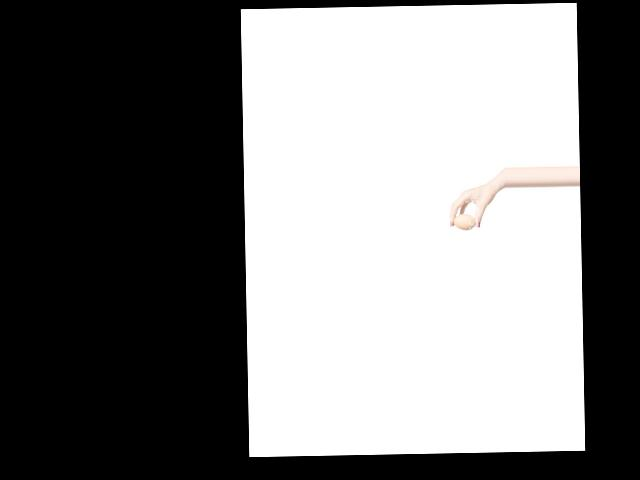egg: (454, 214, 476, 229)
